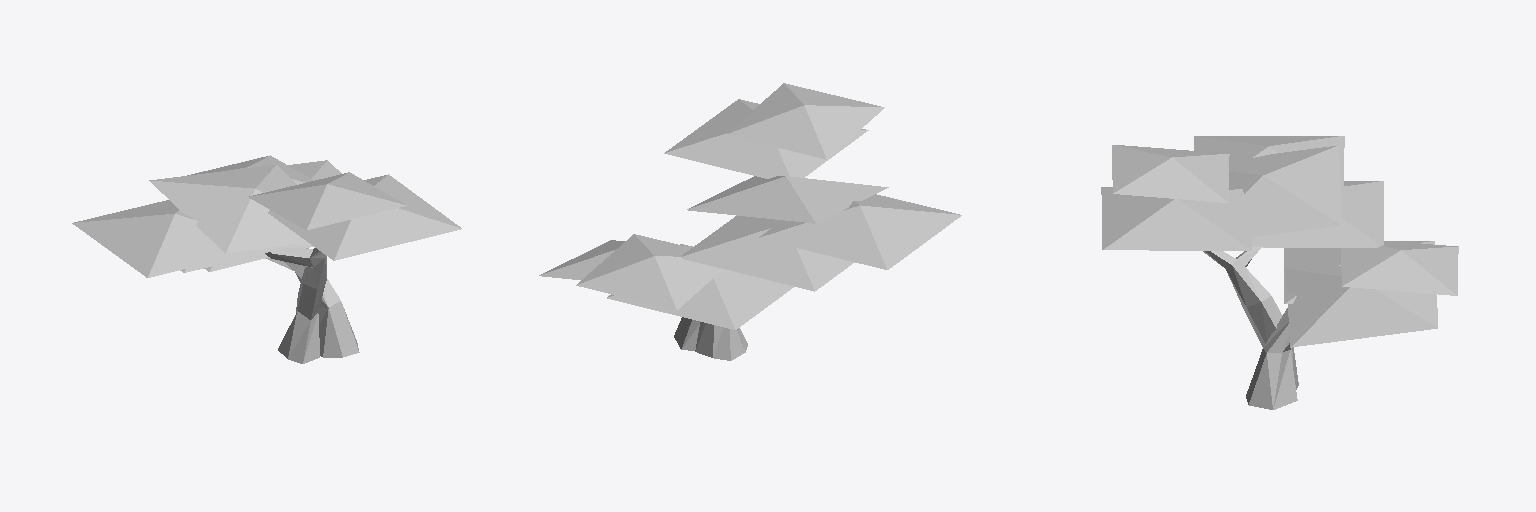
Rendered from bush_04.obj.
3 renders of one model, left to right at view 1: azimuth 30°, elevation 25°; view 2: azimuth 150°, elevation 25°; view 3: azimuth 270°, elevation 25°, orthographic.
Visible parts, largest first — view 1: bush_04; view 2: bush_04; view 3: bush_04.
Part boxes in pixels (bbox=[...]): bush_04: bbox=[72, 155, 461, 363]; bush_04: bbox=[539, 83, 961, 360]; bush_04: bbox=[1101, 136, 1458, 409].
Bounding box in the file's own units: 152 × 102 × 154.